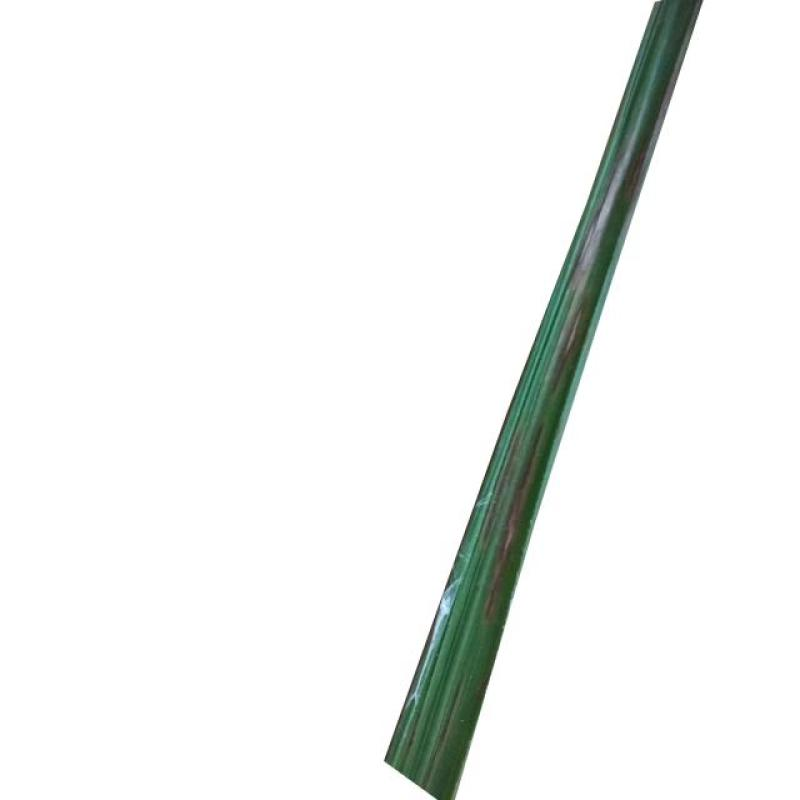Bacterial_Leaf_Blight: (466, 412, 556, 646), (544, 288, 598, 404), (559, 204, 612, 310), (615, 117, 659, 225)
